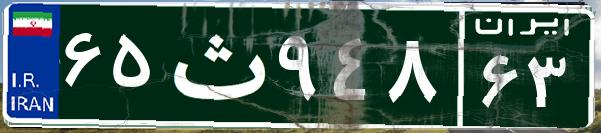3: (525, 38, 570, 115)
4: (330, 28, 385, 110)
5: (110, 28, 158, 105)
6: (57, 26, 110, 107), (475, 38, 525, 113)
8: (385, 28, 445, 110)
9: (273, 28, 330, 110)
ث: (158, 15, 273, 115)
